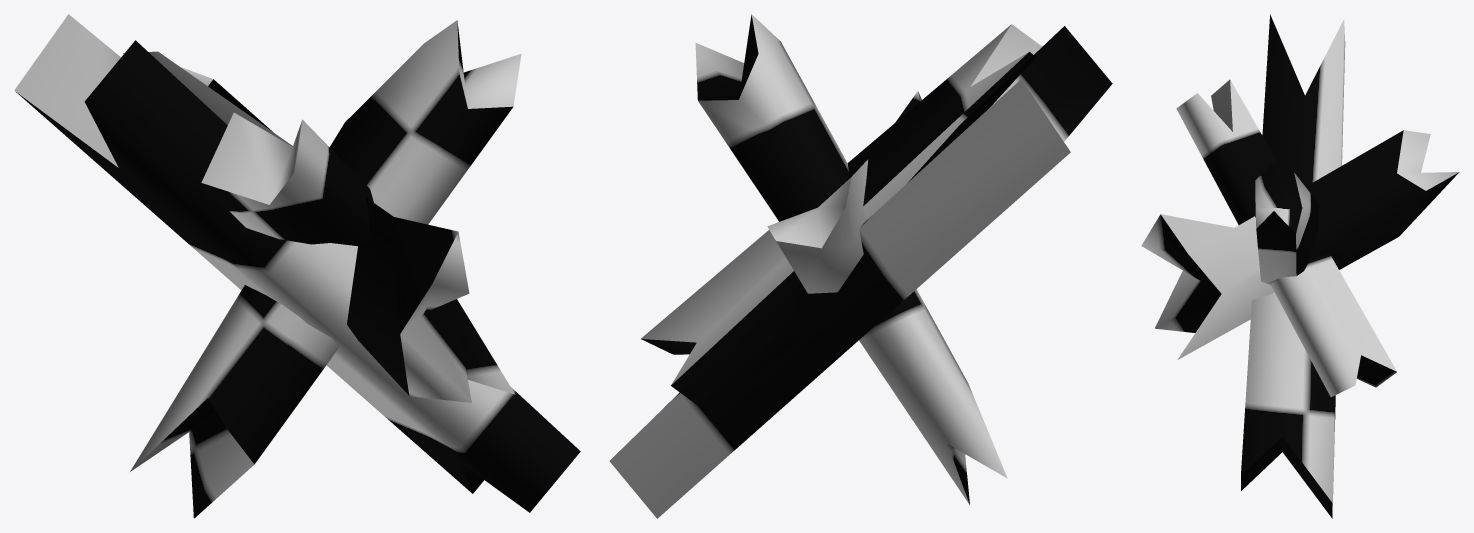
The model's file is ore_palladium.obj.
The picture shows the model from 3 angles, left to right: view 1: azimuth 30°, elevation 25°; view 2: azimuth 150°, elevation 25°; view 3: azimuth 270°, elevation 25°; orthographic projection. The views are drawn at different scales.
Visible parts, largest first — view 1: ore_palladium; view 2: ore_palladium; view 3: ore_palladium.
Boxes of the visible parts, box(x1,y1,x2,y2) form: ore_palladium: box(14, 14, 580, 518); ore_palladium: box(609, 14, 1112, 518); ore_palladium: box(1141, 14, 1459, 518).
Bounding box in the file's own units: 26.6 × 29.63 × 22.4.
1 material, 1 textured.
